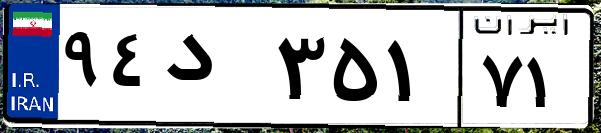1: (385, 28, 445, 110), (525, 38, 570, 115)
3: (270, 28, 330, 110)
4: (110, 28, 158, 98)
5: (330, 28, 385, 110)
7: (475, 38, 525, 113)
9: (57, 26, 110, 100)
د: (158, 20, 270, 120)
